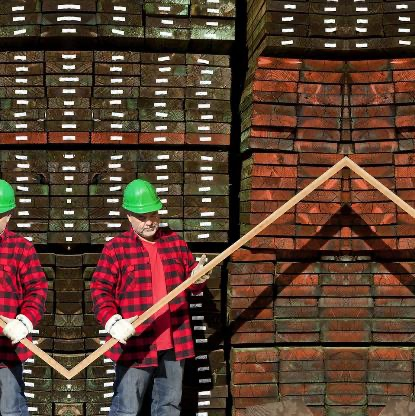Safety Helmet: (118, 174, 169, 247)
